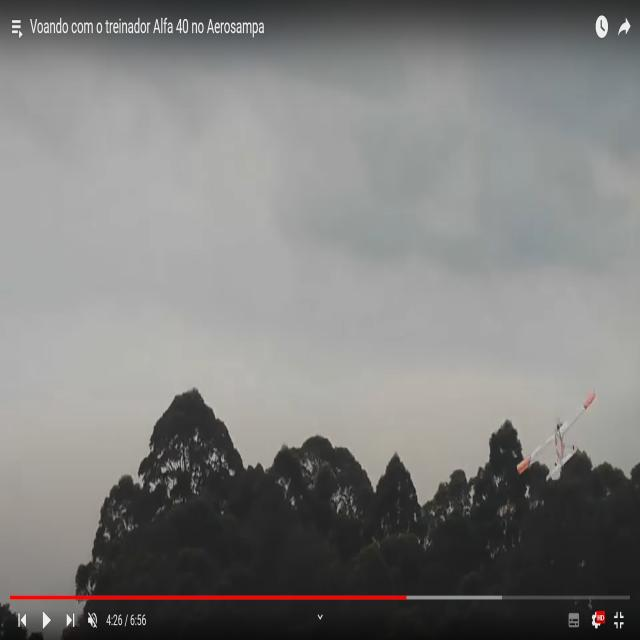iha: (547, 421, 565, 450)
